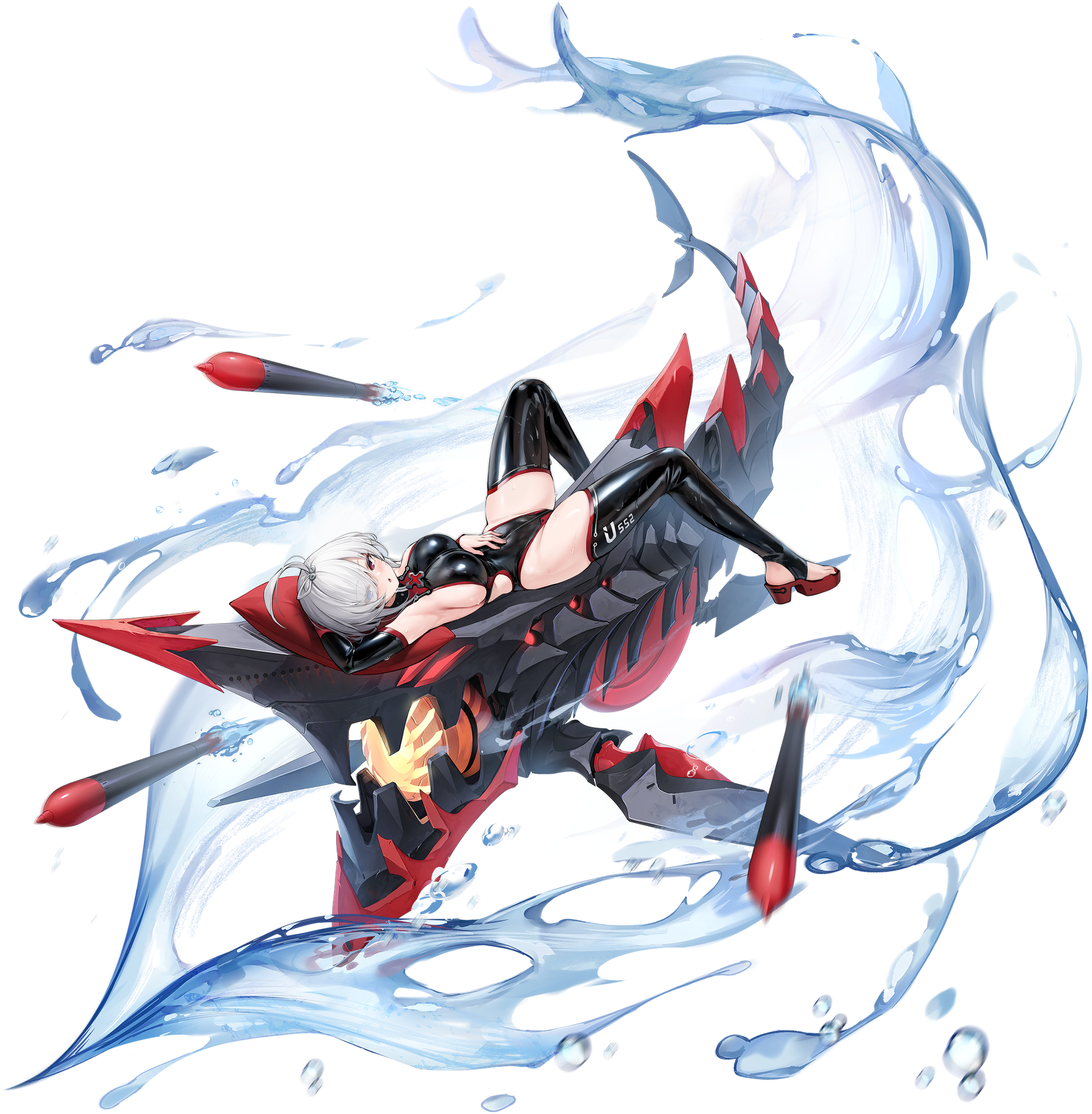person: (210, 331, 871, 731)
